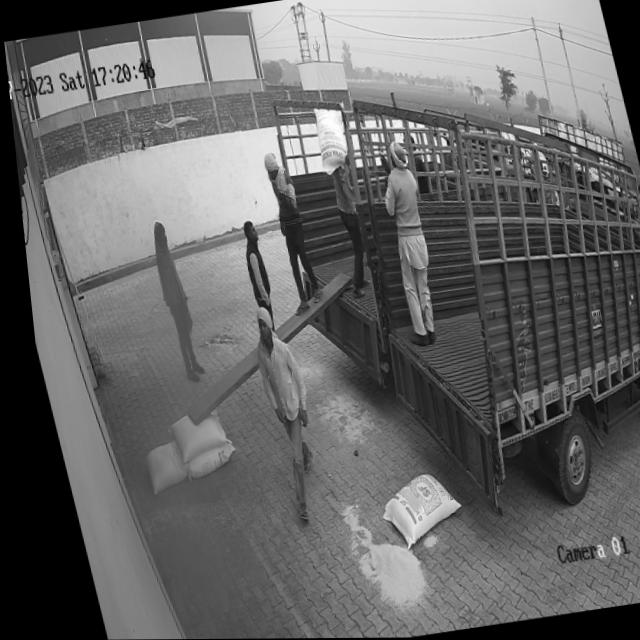sack: (362, 469, 458, 552), (305, 104, 353, 177), (156, 409, 220, 462), (131, 441, 181, 495), (172, 440, 230, 479)
